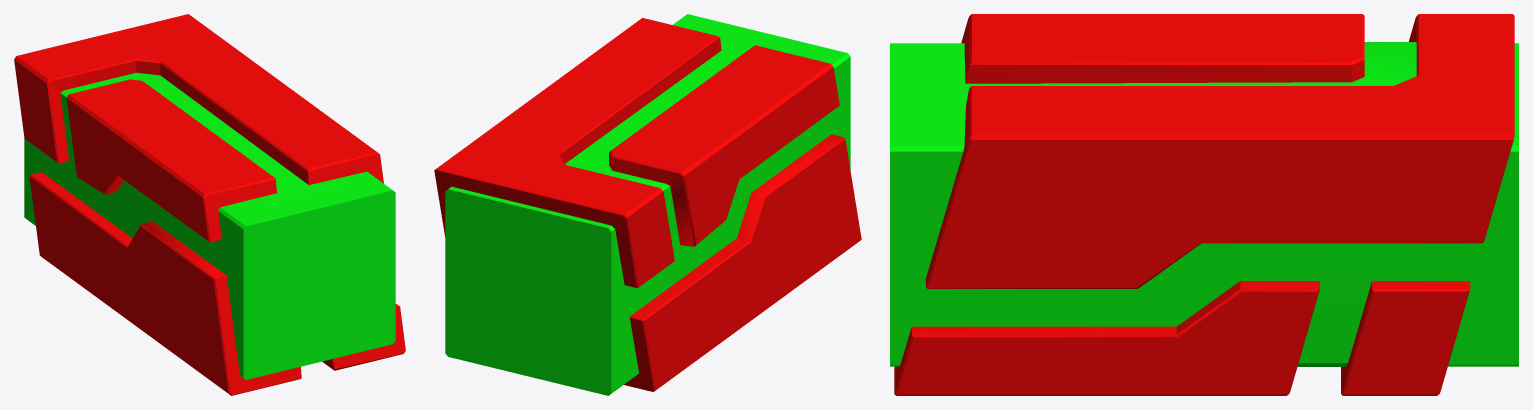
Rendered from MePillar.FBX.
3 views of the same model, side by side, from view 1: azimuth 30°, elevation 25°; view 2: azimuth 150°, elevation 25°; view 3: azimuth 270°, elevation 25° (orthographic). The views are drawn at different scales.
Parts seen in each view (by area): view 1: pilier; view 2: pilier; view 3: pilier.
Boxes of the visible parts, <box> form: pilier: <box>14,14,405,395</box>; pilier: <box>434,14,861,395</box>; pilier: <box>890,14,1518,395</box>.
Size of the model in its own units: 0.7 by 0.6881 by 1.5.
